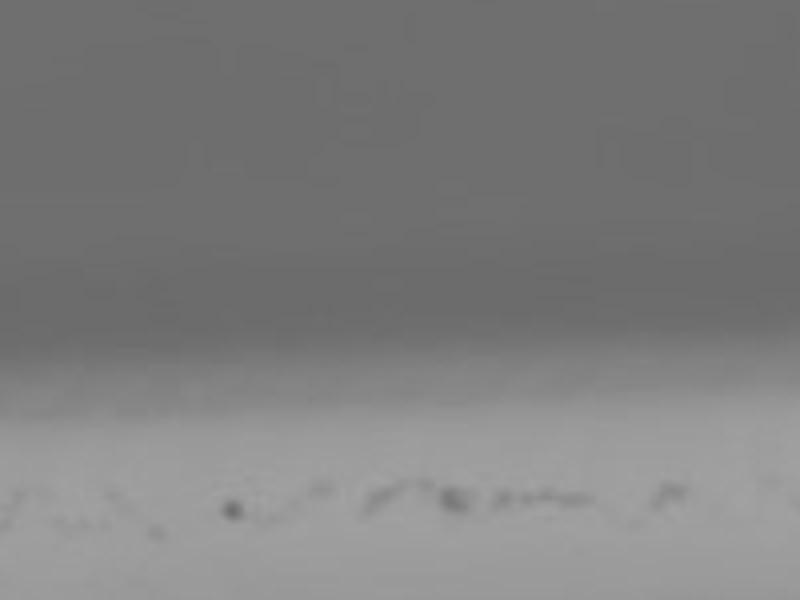defect: (651, 479, 691, 510), (3, 487, 28, 530), (302, 473, 341, 499), (365, 480, 396, 511), (434, 489, 471, 513), (557, 488, 595, 509), (220, 494, 246, 524), (620, 513, 648, 535), (100, 487, 130, 507), (259, 511, 299, 525), (413, 471, 436, 493), (514, 487, 535, 511), (489, 489, 507, 516), (45, 510, 65, 532), (36, 483, 56, 504), (534, 486, 556, 504), (72, 514, 91, 534), (146, 523, 167, 540), (95, 514, 112, 533)
